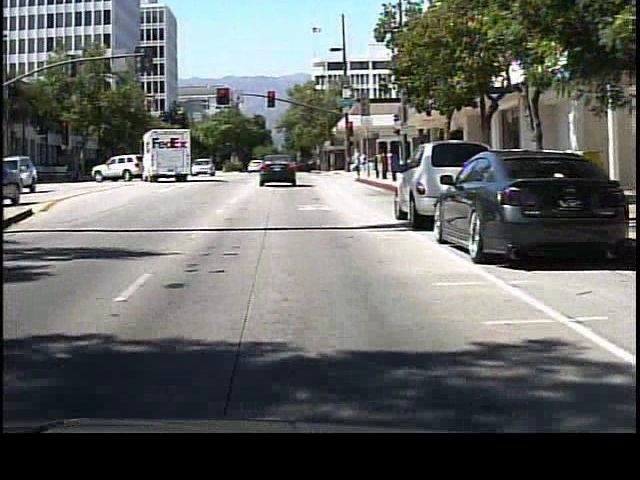person: (349, 147, 367, 182)
